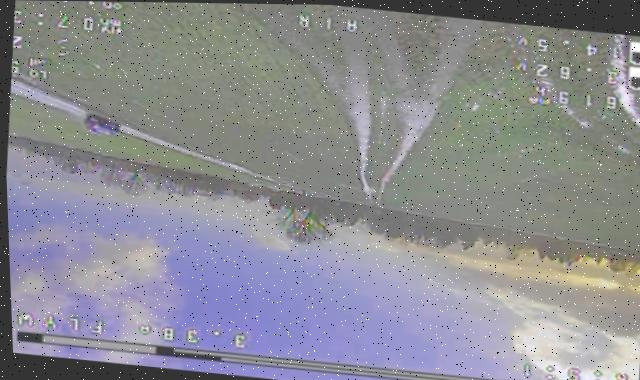car: (82, 115, 122, 137)
